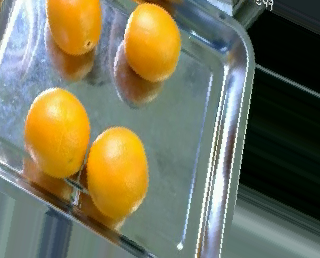Orange: (24, 87, 90, 180), (87, 125, 149, 220), (123, 2, 180, 83)
